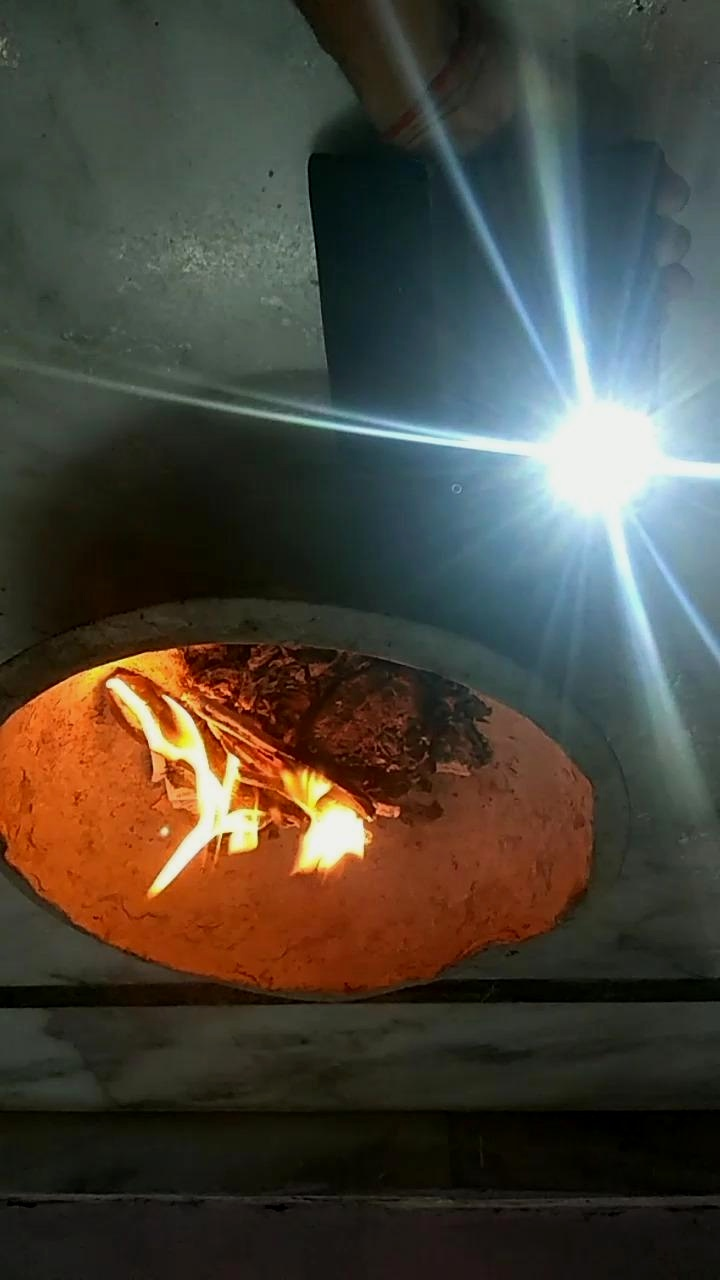fire: (120, 716, 373, 906)
